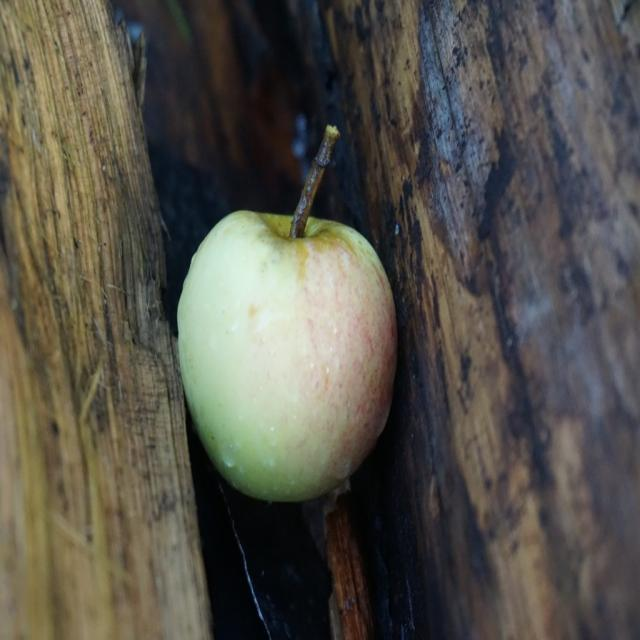Healty Apple: (176, 160, 404, 526)
